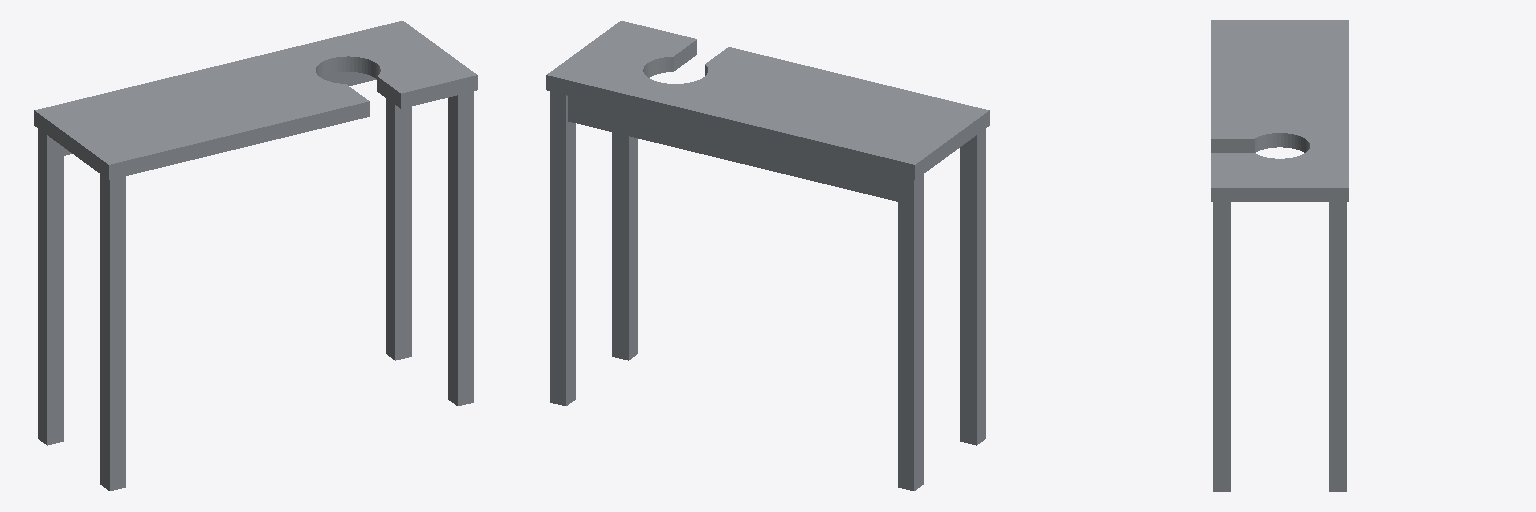
URDF robot description (complete_table):
<?xml version="1.0"?>
<!--
  complete_table.urdf
  Complete table V2, converted from complete_table_v2.step.
  - visual: meshes/complete_table.stl (metres, XY-centred, floor z=0)
  - collision: explicit convex top prisms plus lower-frame box primitives
  - bounding-box size: 1 x 0.35 x 0.85 m
  - volume: 0.0211619404 m^3
  - mass/inertia: uniform stainless steel at 7850 kg/m^3
-->
<robot name="complete_table">

  <material name="complete_table_stainless">
    <color rgba="0.62 0.64 0.66 1.0"/>
  </material>

  <link name="base_link">
    <inertial>
      <origin xyz="-0.0128140967 0.0137472873 0.693653881" rpy="0 0 0"/>
      <mass value="166.121232"/>
      <inertia
          ixx="11.5401152" ixy="-0.113911095" ixz="0.2902391"
          iyy="30.0569243" iyz="-0.199531054" izz="23.4088639"/>
    </inertial>

    <visual>
      <origin xyz="0 0 0" rpy="0 0 0"/>
      <geometry>
        <mesh filename="meshes/complete_table.stl" scale="1 1 1"/>
      </geometry>
      <material name="complete_table_stainless"/>
    </visual>

    <!-- Exact lower-frame boxes from the source STEP; top prisms cover z=0.810..0.850 m. -->
    <collision name="leg_front_left">
      <origin xyz="-0.472 -0.147 0.405" rpy="0 0 0"/>
      <geometry><box size="0.045 0.045 0.810"/></geometry>
    </collision>
    <collision name="leg_front_right">
      <origin xyz="0.472 -0.147 0.405" rpy="0 0 0"/>
      <geometry><box size="0.045 0.045 0.810"/></geometry>
    </collision>
    <collision name="leg_back_left">
      <origin xyz="-0.472 0.147 0.405" rpy="0 0 0"/>
      <geometry><box size="0.045 0.045 0.810"/></geometry>
    </collision>
    <collision name="leg_back_right">
      <origin xyz="0.472 0.147 0.405" rpy="0 0 0"/>
      <geometry><box size="0.045 0.045 0.810"/></geometry>
    </collision>
    <collision name="back_rail">
      <origin xyz="0 0.147 0.7725" rpy="0 0 0"/>
      <geometry><box size="0.899 0.025 0.075"/></geometry>
    </collision>

    <!-- 72 convex prisms tessellated from the exact STEP top face. The circular
         bowl opening and its horizontal gripper-entry slot remain open. -->
    <collision name="top_000">
      <origin xyz="0 0 0" rpy="0 0 0"/>
      <geometry>
        <mesh filename="meshes/collision/complete_table_top_000.stl" scale="1 1 1"/>
      </geometry>
    </collision>

    <collision name="top_001">
      <origin xyz="0 0 0" rpy="0 0 0"/>
      <geometry>
        <mesh filename="meshes/collision/complete_table_top_001.stl" scale="1 1 1"/>
      </geometry>
    </collision>

    <collision name="top_002">
      <origin xyz="0 0 0" rpy="0 0 0"/>
      <geometry>
        <mesh filename="meshes/collision/complete_table_top_002.stl" scale="1 1 1"/>
      </geometry>
    </collision>

    <collision name="top_003">
      <origin xyz="0 0 0" rpy="0 0 0"/>
      <geometry>
        <mesh filename="meshes/collision/complete_table_top_003.stl" scale="1 1 1"/>
      </geometry>
    </collision>

    <collision name="top_004">
      <origin xyz="0 0 0" rpy="0 0 0"/>
      <geometry>
        <mesh filename="meshes/collision/complete_table_top_004.stl" scale="1 1 1"/>
      </geometry>
    </collision>

    <collision name="top_005">
      <origin xyz="0 0 0" rpy="0 0 0"/>
      <geometry>
        <mesh filename="meshes/collision/complete_table_top_005.stl" scale="1 1 1"/>
      </geometry>
    </collision>

    <collision name="top_006">
      <origin xyz="0 0 0" rpy="0 0 0"/>
      <geometry>
        <mesh filename="meshes/collision/complete_table_top_006.stl" scale="1 1 1"/>
      </geometry>
    </collision>

    <collision name="top_007">
      <origin xyz="0 0 0" rpy="0 0 0"/>
      <geometry>
        <mesh filename="meshes/collision/complete_table_top_007.stl" scale="1 1 1"/>
      </geometry>
    </collision>

    <collision name="top_008">
      <origin xyz="0 0 0" rpy="0 0 0"/>
      <geometry>
        <mesh filename="meshes/collision/complete_table_top_008.stl" scale="1 1 1"/>
      </geometry>
    </collision>

    <collision name="top_009">
      <origin xyz="0 0 0" rpy="0 0 0"/>
      <geometry>
        <mesh filename="meshes/collision/complete_table_top_009.stl" scale="1 1 1"/>
      </geometry>
    </collision>

    <collision name="top_010">
      <origin xyz="0 0 0" rpy="0 0 0"/>
      <geometry>
        <mesh filename="meshes/collision/complete_table_top_010.stl" scale="1 1 1"/>
      </geometry>
    </collision>

    <collision name="top_011">
      <origin xyz="0 0 0" rpy="0 0 0"/>
      <geometry>
        <mesh filename="meshes/collision/complete_table_top_011.stl" scale="1 1 1"/>
      </geometry>
    </collision>

    <collision name="top_012">
      <origin xyz="0 0 0" rpy="0 0 0"/>
      <geometry>
        <mesh filename="meshes/collision/complete_table_top_012.stl" scale="1 1 1"/>
      </geometry>
    </collision>

    <collision name="top_013">
      <origin xyz="0 0 0" rpy="0 0 0"/>
      <geometry>
        <mesh filename="meshes/collision/complete_table_top_013.stl" scale="1 1 1"/>
      </geometry>
    </collision>

    <collision name="top_014">
      <origin xyz="0 0 0" rpy="0 0 0"/>
      <geometry>
        <mesh filename="meshes/collision/complete_table_top_014.stl" scale="1 1 1"/>
      </geometry>
    </collision>

    <collision name="top_015">
      <origin xyz="0 0 0" rpy="0 0 0"/>
      <geometry>
        <mesh filename="meshes/collision/complete_table_top_015.stl" scale="1 1 1"/>
      </geometry>
    </collision>

    <collision name="top_016">
      <origin xyz="0 0 0" rpy="0 0 0"/>
      <geometry>
        <mesh filename="meshes/collision/complete_table_top_016.stl" scale="1 1 1"/>
      </geometry>
    </collision>

    <collision name="top_017">
      <origin xyz="0 0 0" rpy="0 0 0"/>
      <geometry>
        <mesh filename="meshes/collision/complete_table_top_017.stl" scale="1 1 1"/>
      </geometry>
    </collision>

    <collision name="top_018">
      <origin xyz="0 0 0" rpy="0 0 0"/>
      <geometry>
        <mesh filename="meshes/collision/complete_table_top_018.stl" scale="1 1 1"/>
      </geometry>
    </collision>

    <collision name="top_019">
      <origin xyz="0 0 0" rpy="0 0 0"/>
      <geometry>
        <mesh filename="meshes/collision/complete_table_top_019.stl" scale="1 1 1"/>
      </geometry>
    </collision>

    <collision name="top_020">
      <origin xyz="0 0 0" rpy="0 0 0"/>
      <geometry>
        <mesh filename="meshes/collision/complete_table_top_020.stl" scale="1 1 1"/>
      </geometry>
    </collision>

    <collision name="top_021">
      <origin xyz="0 0 0" rpy="0 0 0"/>
      <geometry>
        <mesh filename="meshes/collision/complete_table_top_021.stl" scale="1 1 1"/>
      </geometry>
    </collision>

    <collision name="top_022">
      <origin xyz="0 0 0" rpy="0 0 0"/>
      <geometry>
        <mesh filename="meshes/collision/complete_table_top_022.stl" scale="1 1 1"/>
      </geometry>
    </collision>

    <collision name="top_023">
      <origin xyz="0 0 0" rpy="0 0 0"/>
      <geometry>
        <mesh filename="meshes/collision/complete_table_top_023.stl" scale="1 1 1"/>
      </geometry>
    </collision>

    <collision name="top_024">
      <origin xyz="0 0 0" rpy="0 0 0"/>
      <geometry>
        <mesh filename="meshes/collision/complete_table_top_024.stl" scale="1 1 1"/>
      </geometry>
    </collision>

    <collision name="top_025">
      <origin xyz="0 0 0" rpy="0 0 0"/>
      <geometry>
        <mesh filename="meshes/collision/complete_table_top_025.stl" scale="1 1 1"/>
      </geometry>
    </collision>

    <collision name="top_026">
      <origin xyz="0 0 0" rpy="0 0 0"/>
      <geometry>
        <mesh filename="meshes/collision/complete_table_top_026.stl" scale="1 1 1"/>
      </geometry>
    </collision>

    <collision name="top_027">
      <origin xyz="0 0 0" rpy="0 0 0"/>
      <geometry>
        <mesh filename="meshes/collision/complete_table_top_027.stl" scale="1 1 1"/>
      </geometry>
    </collision>

    <collision name="top_028">
      <origin xyz="0 0 0" rpy="0 0 0"/>
      <geometry>
        <mesh filename="meshes/collision/complete_table_top_028.stl" scale="1 1 1"/>
      </geometry>
    </collision>

    <collision name="top_029">
      <origin xyz="0 0 0" rpy="0 0 0"/>
      <geometry>
        <mesh filename="meshes/collision/complete_table_top_029.stl" scale="1 1 1"/>
      </geometry>
    </collision>

    <collision name="top_030">
      <origin xyz="0 0 0" rpy="0 0 0"/>
      <geometry>
        <mesh filename="meshes/collision/complete_table_top_030.stl" scale="1 1 1"/>
      </geometry>
    </collision>

    <collision name="top_031">
      <origin xyz="0 0 0" rpy="0 0 0"/>
      <geometry>
        <mesh filename="meshes/collision/complete_table_top_031.stl" scale="1 1 1"/>
      </geometry>
    </collision>

    <collision name="top_032">
      <origin xyz="0 0 0" rpy="0 0 0"/>
      <geometry>
        <mesh filename="meshes/collision/complete_table_top_032.stl" scale="1 1 1"/>
      </geometry>
    </collision>

    <collision name="top_033">
      <origin xyz="0 0 0" rpy="0 0 0"/>
      <geometry>
        <mesh filename="meshes/collision/complete_table_top_033.stl" scale="1 1 1"/>
      </geometry>
    </collision>

    <collision name="top_034">
      <origin xyz="0 0 0" rpy="0 0 0"/>
      <geometry>
        <mesh filename="meshes/collision/complete_table_top_034.stl" scale="1 1 1"/>
      </geometry>
    </collision>

    <collision name="top_035">
      <origin xyz="0 0 0" rpy="0 0 0"/>
      <geometry>
        <mesh filename="meshes/collision/complete_table_top_035.stl" scale="1 1 1"/>
      </geometry>
    </collision>

    <collision name="top_036">
      <origin xyz="0 0 0" rpy="0 0 0"/>
      <geometry>
        <mesh filename="meshes/collision/complete_table_top_036.stl" scale="1 1 1"/>
      </geometry>
    </collision>

    <collision name="top_037">
      <origin xyz="0 0 0" rpy="0 0 0"/>
      <geometry>
        <mesh filename="meshes/collision/complete_table_top_037.stl" scale="1 1 1"/>
      </geometry>
    </collision>

    <collision name="top_038">
      <origin xyz="0 0 0" rpy="0 0 0"/>
      <geometry>
        <mesh filename="meshes/collision/complete_table_top_038.stl" scale="1 1 1"/>
      </geometry>
    </collision>

    <collision name="top_039">
      <origin xyz="0 0 0" rpy="0 0 0"/>
      <geometry>
        <mesh filename="meshes/collision/complete_table_top_039.stl" scale="1 1 1"/>
      </geometry>
    </collision>

    <collision name="top_040">
      <origin xyz="0 0 0" rpy="0 0 0"/>
      <geometry>
        <mesh filename="meshes/collision/complete_table_top_040.stl" scale="1 1 1"/>
      </geometry>
    </collision>

    <collision name="top_041">
      <origin xyz="0 0 0" rpy="0 0 0"/>
      <geometry>
        <mesh filename="meshes/collision/complete_table_top_041.stl" scale="1 1 1"/>
      </geometry>
    </collision>

    <collision name="top_042">
      <origin xyz="0 0 0" rpy="0 0 0"/>
      <geometry>
        <mesh filename="meshes/collision/complete_table_top_042.stl" scale="1 1 1"/>
      </geometry>
    </collision>

    <collision name="top_043">
      <origin xyz="0 0 0" rpy="0 0 0"/>
      <geometry>
        <mesh filename="meshes/collision/complete_table_top_043.stl" scale="1 1 1"/>
      </geometry>
    </collision>

    <collision name="top_044">
      <origin xyz="0 0 0" rpy="0 0 0"/>
      <geometry>
        <mesh filename="meshes/collision/complete_table_top_044.stl" scale="1 1 1"/>
      </geometry>
    </collision>

    <collision name="top_045">
      <origin xyz="0 0 0" rpy="0 0 0"/>
      <geometry>
        <mesh filename="meshes/collision/complete_table_top_045.stl" scale="1 1 1"/>
      </geometry>
    </collision>

    <collision name="top_046">
      <origin xyz="0 0 0" rpy="0 0 0"/>
      <geometry>
        <mesh filename="meshes/collision/complete_table_top_046.stl" scale="1 1 1"/>
      </geometry>
    </collision>

    <collision name="top_047">
      <origin xyz="0 0 0" rpy="0 0 0"/>
      <geometry>
        <mesh filename="meshes/collision/complete_table_top_047.stl" scale="1 1 1"/>
      </geometry>
    </collision>

    <collision name="top_048">
      <origin xyz="0 0 0" rpy="0 0 0"/>
      <geometry>
        <mesh filename="meshes/collision/complete_table_top_048.stl" scale="1 1 1"/>
      </geometry>
    </collision>

    <collision name="top_049">
      <origin xyz="0 0 0" rpy="0 0 0"/>
      <geometry>
        <mesh filename="meshes/collision/complete_table_top_049.stl" scale="1 1 1"/>
      </geometry>
    </collision>

    <collision name="top_050">
      <origin xyz="0 0 0" rpy="0 0 0"/>
      <geometry>
        <mesh filename="meshes/collision/complete_table_top_050.stl" scale="1 1 1"/>
      </geometry>
    </collision>

    <collision name="top_051">
      <origin xyz="0 0 0" rpy="0 0 0"/>
      <geometry>
        <mesh filename="meshes/collision/complete_table_top_051.stl" scale="1 1 1"/>
      </geometry>
    </collision>

    <collision name="top_052">
      <origin xyz="0 0 0" rpy="0 0 0"/>
      <geometry>
        <mesh filename="meshes/collision/complete_table_top_052.stl" scale="1 1 1"/>
      </geometry>
    </collision>

    <collision name="top_053">
      <origin xyz="0 0 0" rpy="0 0 0"/>
      <geometry>
        <mesh filename="meshes/collision/complete_table_top_053.stl" scale="1 1 1"/>
      </geometry>
    </collision>

    <collision name="top_054">
      <origin xyz="0 0 0" rpy="0 0 0"/>
      <geometry>
        <mesh filename="meshes/collision/complete_table_top_054.stl" scale="1 1 1"/>
      </geometry>
    </collision>

    <collision name="top_055">
      <origin xyz="0 0 0" rpy="0 0 0"/>
      <geometry>
        <mesh filename="meshes/collision/complete_table_top_055.stl" scale="1 1 1"/>
      </geometry>
    </collision>

    <collision name="top_056">
      <origin xyz="0 0 0" rpy="0 0 0"/>
      <geometry>
        <mesh filename="meshes/collision/complete_table_top_056.stl" scale="1 1 1"/>
      </geometry>
    </collision>

    <collision name="top_057">
      <origin xyz="0 0 0" rpy="0 0 0"/>
      <geometry>
        <mesh filename="meshes/collision/complete_table_top_057.stl" scale="1 1 1"/>
      </geometry>
    </collision>

    <collision name="top_058">
      <origin xyz="0 0 0" rpy="0 0 0"/>
      <geometry>
        <mesh filename="meshes/collision/complete_table_top_058.stl" scale="1 1 1"/>
      </geometry>
    </collision>

    <collision name="top_059">
      <origin xyz="0 0 0" rpy="0 0 0"/>
      <geometry>
        <mesh filename="meshes/collision/complete_table_top_059.stl" scale="1 1 1"/>
      </geometry>
    </collision>

    <collision name="top_060">
      <origin xyz="0 0 0" rpy="0 0 0"/>
      <geometry>
        <mesh filename="meshes/collision/complete_table_top_060.stl" scale="1 1 1"/>
      </geometry>
    </collision>

    <collision name="top_061">
      <origin xyz="0 0 0" rpy="0 0 0"/>
      <geometry>
        <mesh filename="meshes/collision/complete_table_top_061.stl" scale="1 1 1"/>
      </geometry>
    </collision>

    <collision name="top_062">
      <origin xyz="0 0 0" rpy="0 0 0"/>
      <geometry>
        <mesh filename="meshes/collision/complete_table_top_062.stl" scale="1 1 1"/>
      </geometry>
    </collision>

    <collision name="top_063">
      <origin xyz="0 0 0" rpy="0 0 0"/>
      <geometry>
        <mesh filename="meshes/collision/complete_table_top_063.stl" scale="1 1 1"/>
      </geometry>
    </collision>

    <collision name="top_064">
      <origin xyz="0 0 0" rpy="0 0 0"/>
      <geometry>
        <mesh filename="meshes/collision/complete_table_top_064.stl" scale="1 1 1"/>
      </geometry>
    </collision>

    <collision name="top_065">
      <origin xyz="0 0 0" rpy="0 0 0"/>
      <geometry>
        <mesh filename="meshes/collision/complete_table_top_065.stl" scale="1 1 1"/>
      </geometry>
    </collision>

    <collision name="top_066">
      <origin xyz="0 0 0" rpy="0 0 0"/>
      <geometry>
        <mesh filename="meshes/collision/complete_table_top_066.stl" scale="1 1 1"/>
      </geometry>
    </collision>

    <collision name="top_067">
      <origin xyz="0 0 0" rpy="0 0 0"/>
      <geometry>
        <mesh filename="meshes/collision/complete_table_top_067.stl" scale="1 1 1"/>
      </geometry>
    </collision>

    <collision name="top_068">
      <origin xyz="0 0 0" rpy="0 0 0"/>
      <geometry>
        <mesh filename="meshes/collision/complete_table_top_068.stl" scale="1 1 1"/>
      </geometry>
    </collision>

    <collision name="top_069">
      <origin xyz="0 0 0" rpy="0 0 0"/>
      <geometry>
        <mesh filename="meshes/collision/complete_table_top_069.stl" scale="1 1 1"/>
      </geometry>
    </collision>

    <collision name="top_070">
      <origin xyz="0 0 0" rpy="0 0 0"/>
      <geometry>
        <mesh filename="meshes/collision/complete_table_top_070.stl" scale="1 1 1"/>
      </geometry>
    </collision>

    <collision name="top_071">
      <origin xyz="0 0 0" rpy="0 0 0"/>
      <geometry>
        <mesh filename="meshes/collision/complete_table_top_071.stl" scale="1 1 1"/>
      </geometry>
    </collision>
  </link>
</robot>

--- Facts derived from the render (not from the file) ---
The picture shows the robot from 3 angles, left to right: view 1: azimuth 30°, elevation 25°; view 2: azimuth 150°, elevation 25°; view 3: azimuth 270°, elevation 25°; orthographic projection.
Model complete_table with 1 links and 0 joints (none), rooted at base_link, posed every joint at zero.
Links seen in each view (by area): view 1: base_link; view 2: base_link; view 3: base_link.
Link boxes in pixels (x1,y1,x2,y2): base_link: (34,21,477,490); base_link: (546,21,989,490); base_link: (1211,20,1348,491).
Bounding box of the posed robot: 1 × 0.35 × 0.85 m (x, y, z).
1 mesh visuals loaded from 1 distinct referenced files (1 binary STL).
